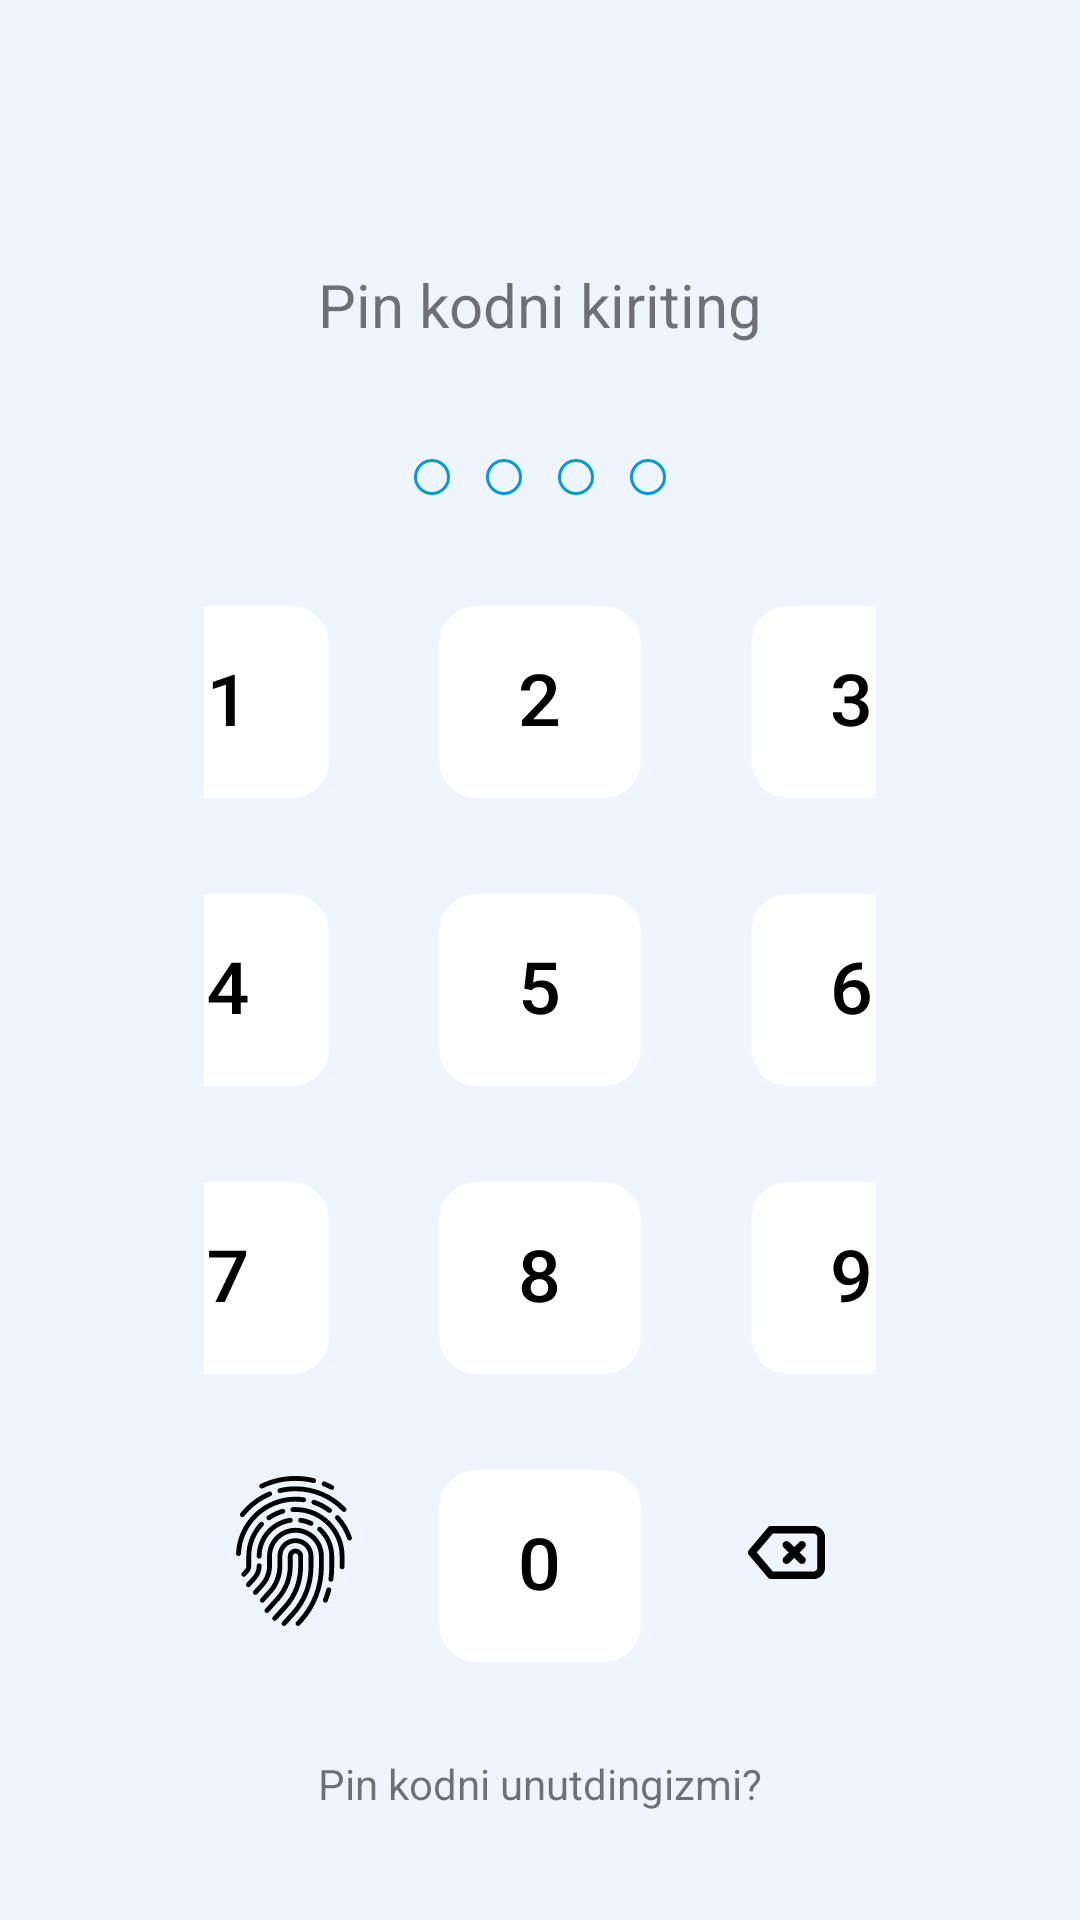

Where icons sit on this 1080px×1920px app screen, as (x1, y1, x2, y2):
btncancel: (748, 1526, 825, 1579)
fingerprint: (236, 1476, 352, 1626)
